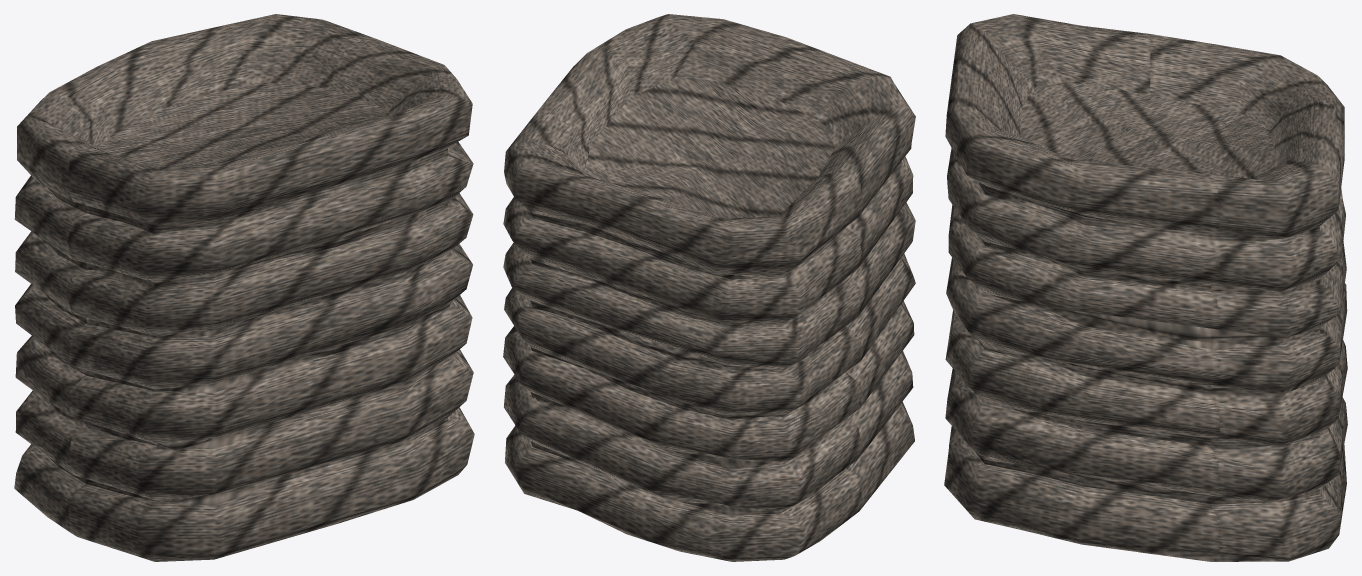
Rendered from SM_Rope_Sleeve_Beam.fbx.
3 renders of one model, left to right at view 1: azimuth 30°, elevation 25°; view 2: azimuth 150°, elevation 25°; view 3: azimuth 270°, elevation 25°, orthographic. The views are drawn at different scales.
Parts seen in each view (by area): view 1: SM_Rope_Sleeve_Beam_LOD0; view 2: SM_Rope_Sleeve_Beam_LOD0; view 3: SM_Rope_Sleeve_Beam_LOD0.
Part boxes in pixels (bbox=[...]): SM_Rope_Sleeve_Beam_LOD0: bbox=[14, 14, 474, 561]; SM_Rope_Sleeve_Beam_LOD0: bbox=[503, 14, 915, 561]; SM_Rope_Sleeve_Beam_LOD0: bbox=[944, 14, 1347, 561].
Size of the model in its own units: 32.87 by 31.79 by 38.85.
Materials: 1 (1 with a texture image).
